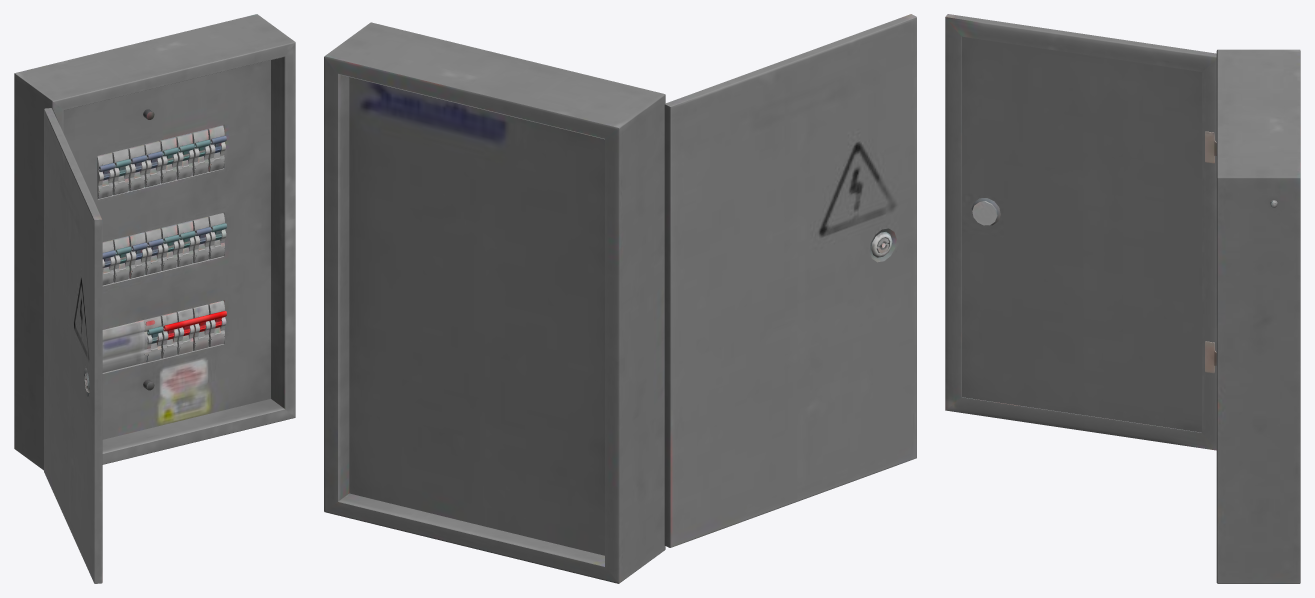
The model's file is power_box_01.gltf.
3 views of the same model, side by side, from view 1: azimuth 30°, elevation 25°; view 2: azimuth 150°, elevation 25°; view 3: azimuth 270°, elevation 25° (orthographic). The views are drawn at different scales.
Visible parts, largest first — view 1: power_box_01_box, power_box_01_door; view 2: power_box_01_box, power_box_01_door; view 3: power_box_01_door, power_box_01_box.
Boxes of the visible parts, bbox=[...] form: power_box_01_box: bbox=[14, 14, 295, 470]; power_box_01_door: bbox=[44, 108, 102, 583]; power_box_01_box: bbox=[324, 22, 665, 583]; power_box_01_door: bbox=[664, 14, 916, 547]; power_box_01_door: bbox=[945, 14, 1216, 450]; power_box_01_box: bbox=[1216, 49, 1300, 583].
Size of the model in its own units: 0.4613 by 0.5031 by 0.399.
1 material, 1 textured.
